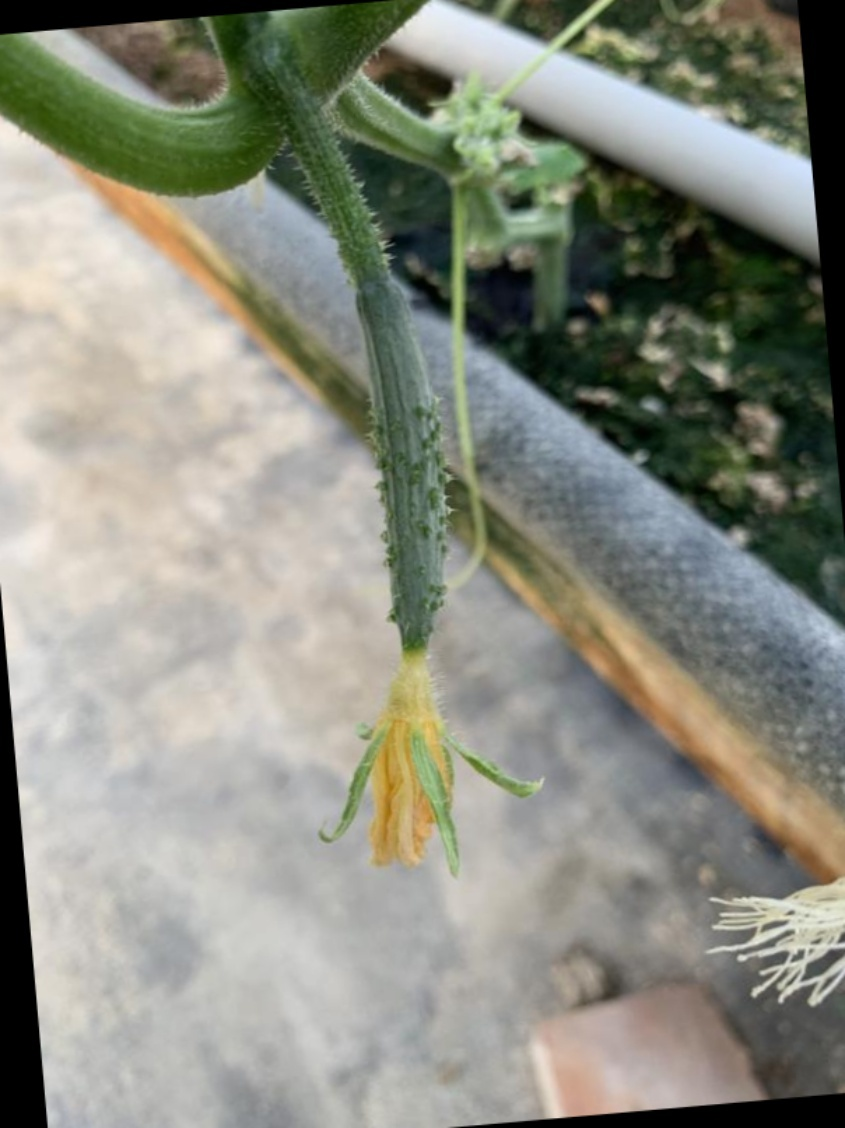bear: (277, 270, 533, 896)
